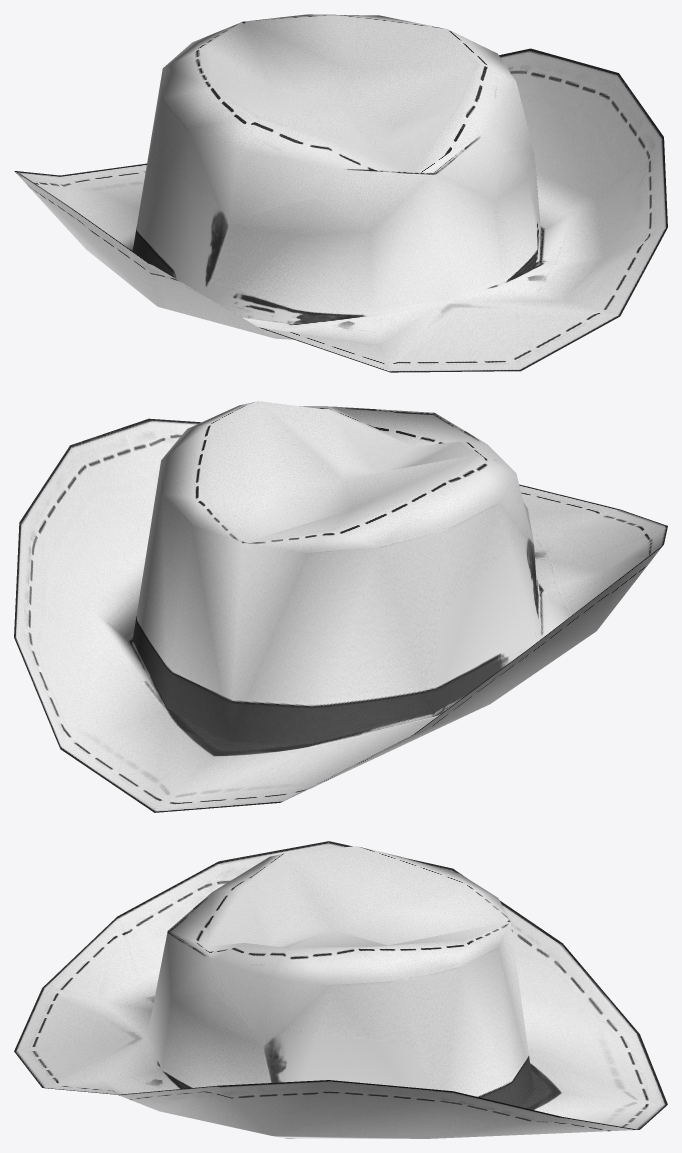
The model's file is cowboyHat.glb.
3 views of the same model, one above another, from view 1: azimuth 30°, elevation 25°; view 2: azimuth 150°, elevation 25°; view 3: azimuth 270°, elevation 25° (orthographic). The views are drawn at different scales.
Visible parts, largest first — view 1: CowboyHat; view 2: CowboyHat; view 3: CowboyHat.
Part boxes in pixels (left/top/right/bottom): CowboyHat: left=14, top=14, right=667, bottom=372; CowboyHat: left=14, top=401, right=667, bottom=812; CowboyHat: left=14, top=841, right=667, bottom=1138.
Size of the model in its own units: 14.03 by 5.68 by 16.24.
Materials: 1 (1 with a texture image).
